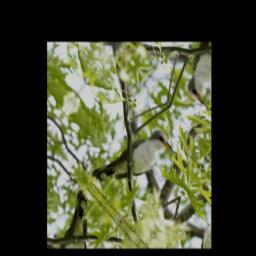Cuckoo: (89, 103, 176, 216)
